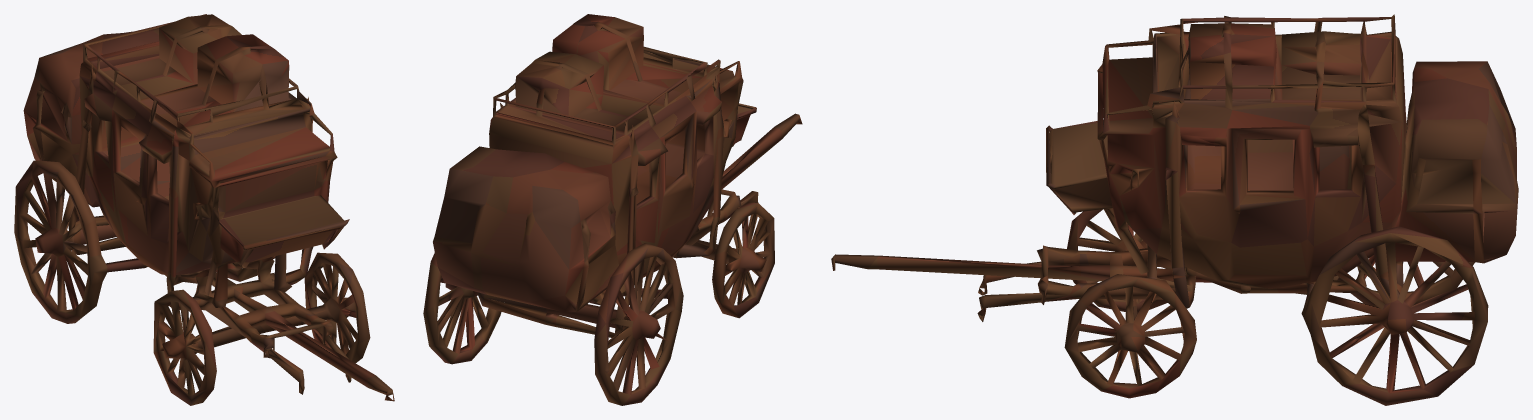
The model's file is stagecoach.glb.
3 renders of one model, left to right at view 1: azimuth 30°, elevation 25°; view 2: azimuth 150°, elevation 25°; view 3: azimuth 270°, elevation 25°, orthographic. The views are drawn at different scales.
Visible parts, largest first — view 1: LO.001; view 2: LO.001; view 3: LO.001.
Boxes of the visible parts, x1,y1,x2,y2 form: LO.001: (14,14,394,405); LO.001: (423,14,802,405); LO.001: (831,14,1518,405).
Size of the model in its own units: 2.38 by 3.25 by 5.96.
1 material, 1 textured.
